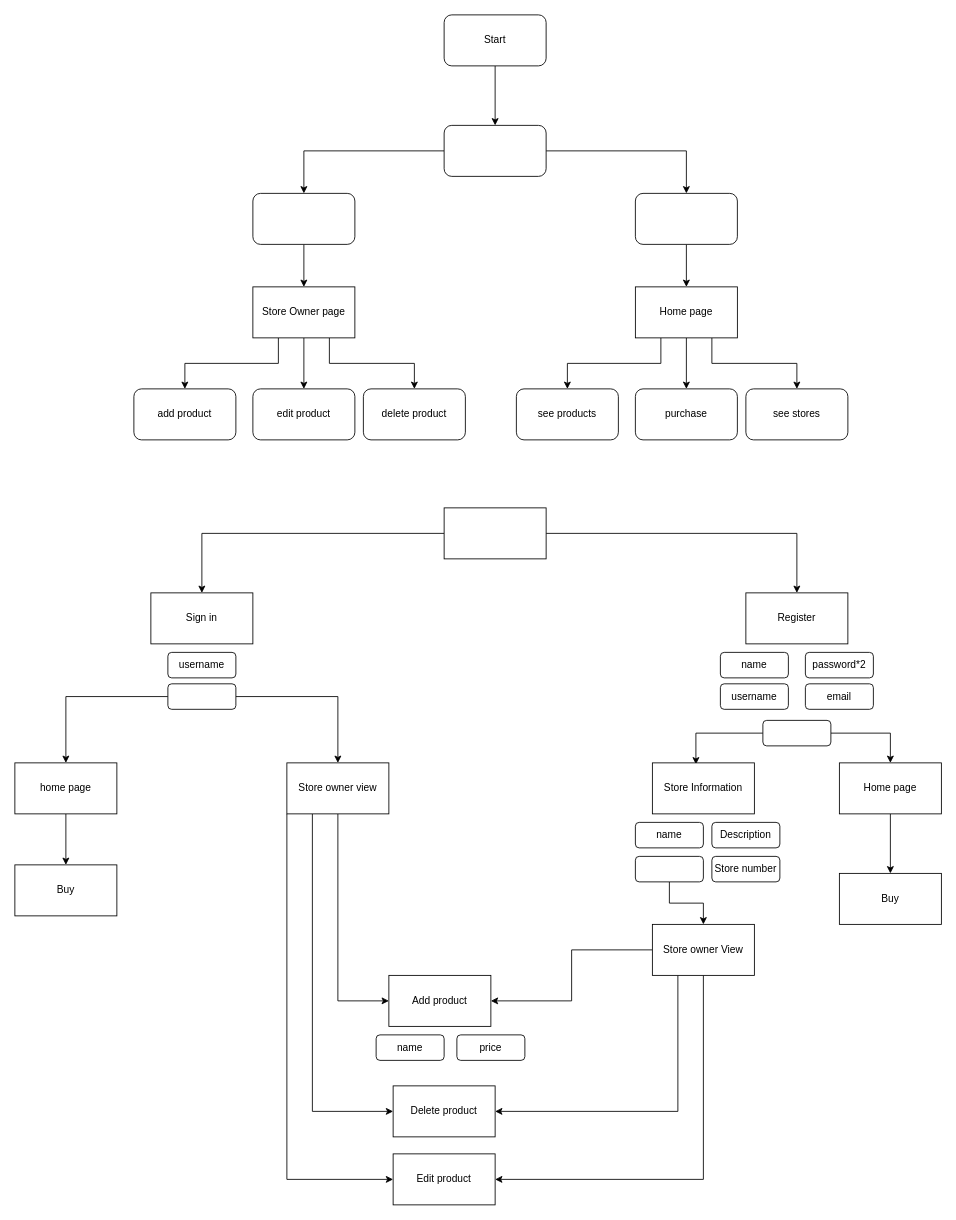
This 956x1220 diagram has some shape labels left out. The shapes that lost their labels are listed below. From the top down, each one's centre as x and y in pixels, then its label:
[494,150]: Login/ Sign up
[303,218]: Store Owner
[686,218]: Buyer
[494,533]: Welcome page
[201,696]: password
[796,733]: Type
[669,869]: Location
